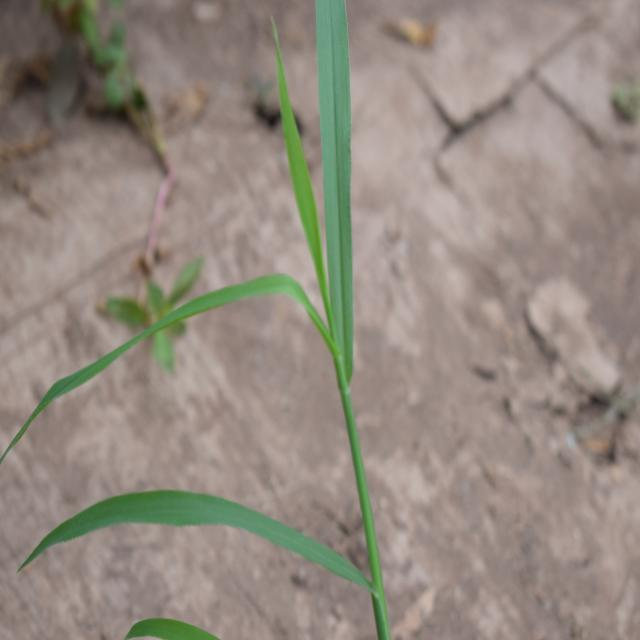crabgrass: (7, 2, 409, 635)
